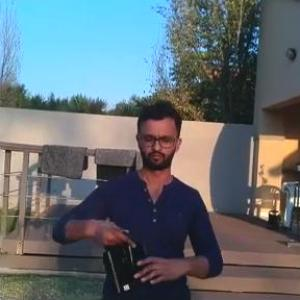follow: (47, 93, 226, 299)
